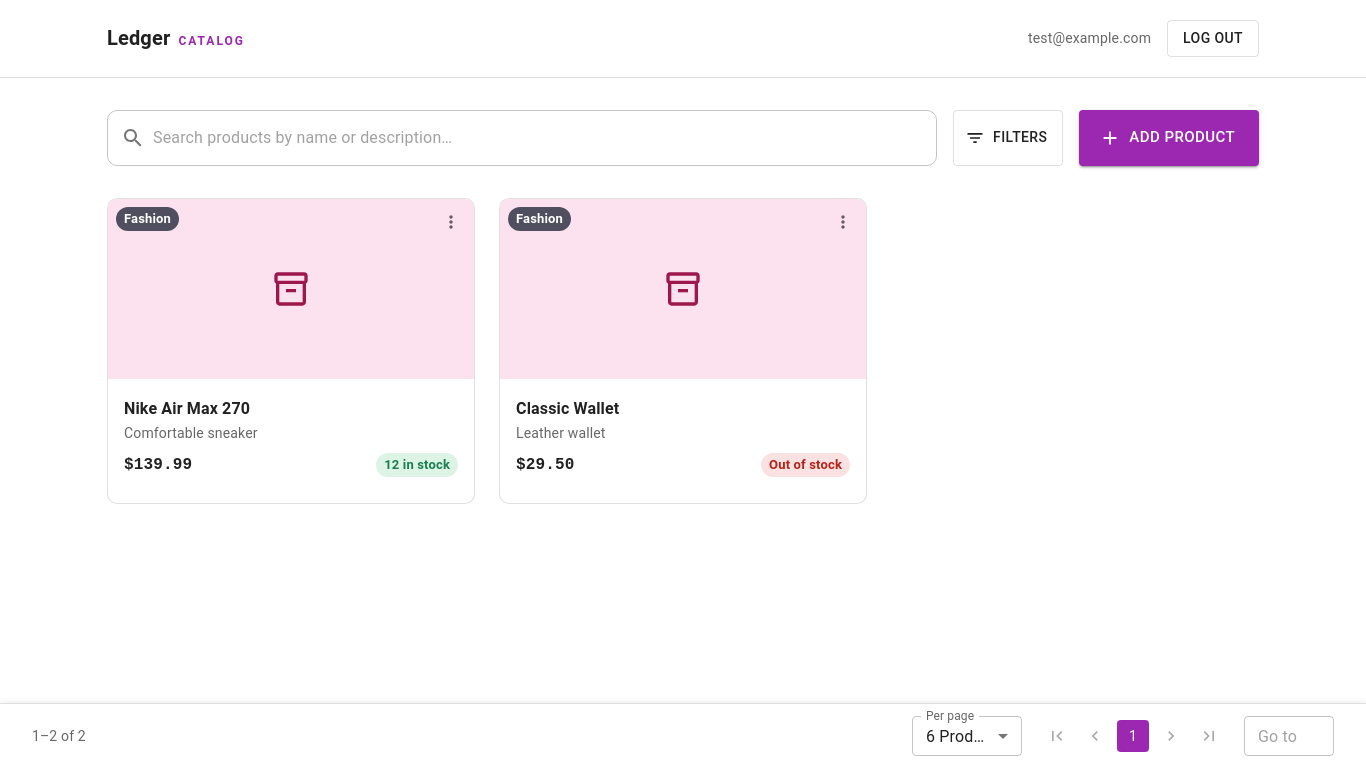
ProductsPage › filters the list when searching (debounced)
The image size is (1366, 768).
Expected: the heading "Nike Air Max 270" is shown, [124,398,250,418]
Type "wallet" into the field labelled "Search products by name or description…" at [545, 138], box [153,110,937,166]
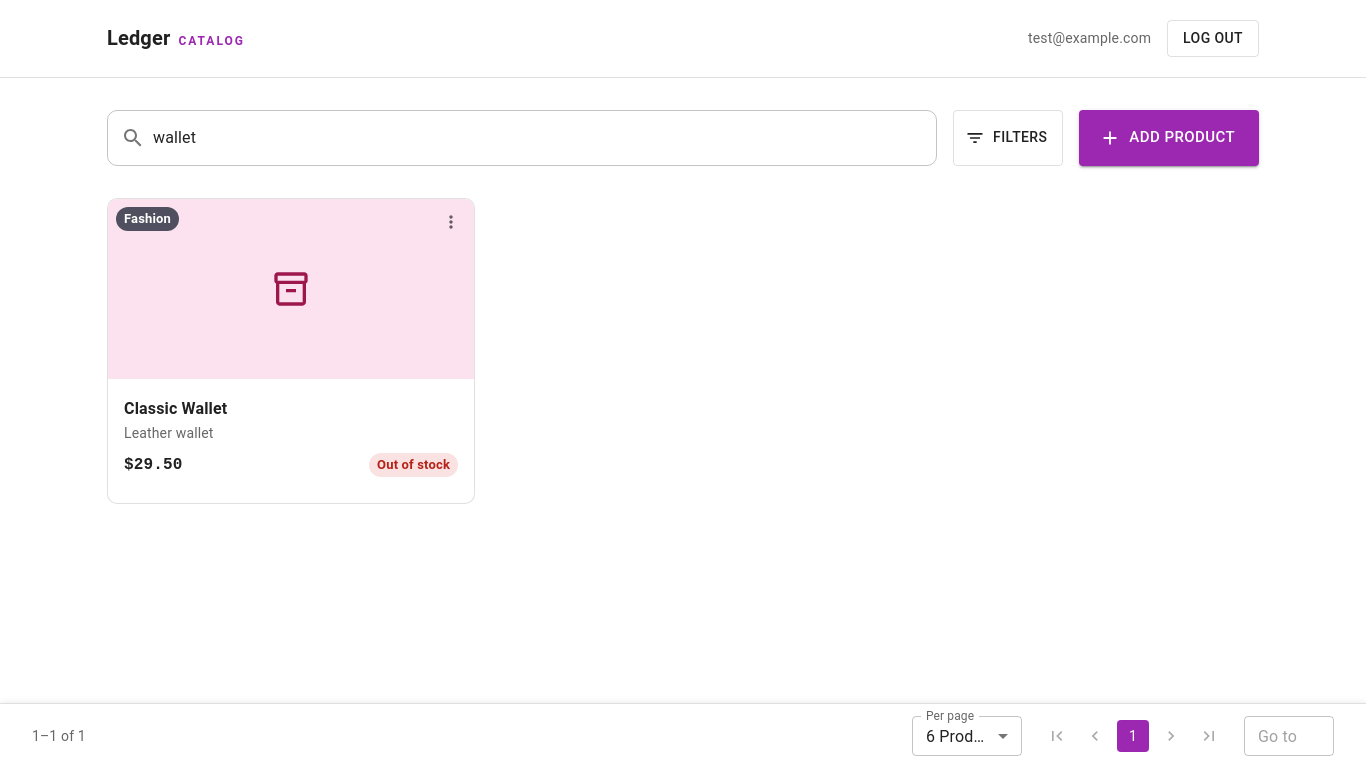
Expected: the heading "Classic Wallet" is shown, [124,398,227,418]
Now the heading "Nike Air Max 270" is gone
